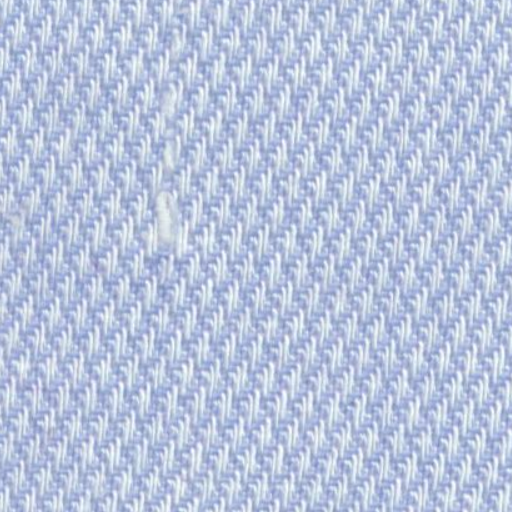DuanSha: (136, 80, 204, 270)
